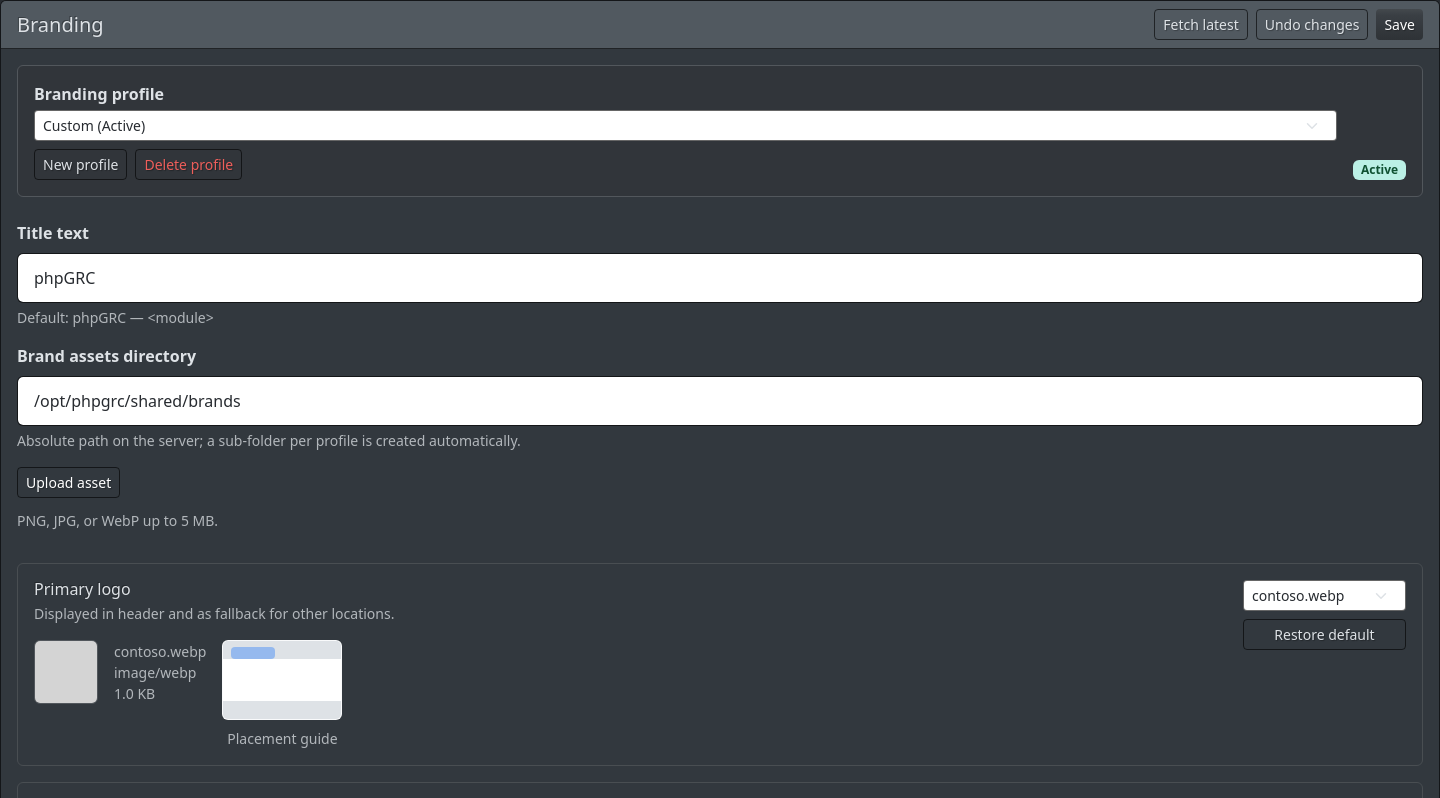
Test: BrandingCard › includes updated asset path when saved
The image size is (1440, 798).
Type "/srv/custom-brands" into the field labelled "Brand assets directory" at (720, 401), box x1=17 y1=376 x2=1423 y2=426
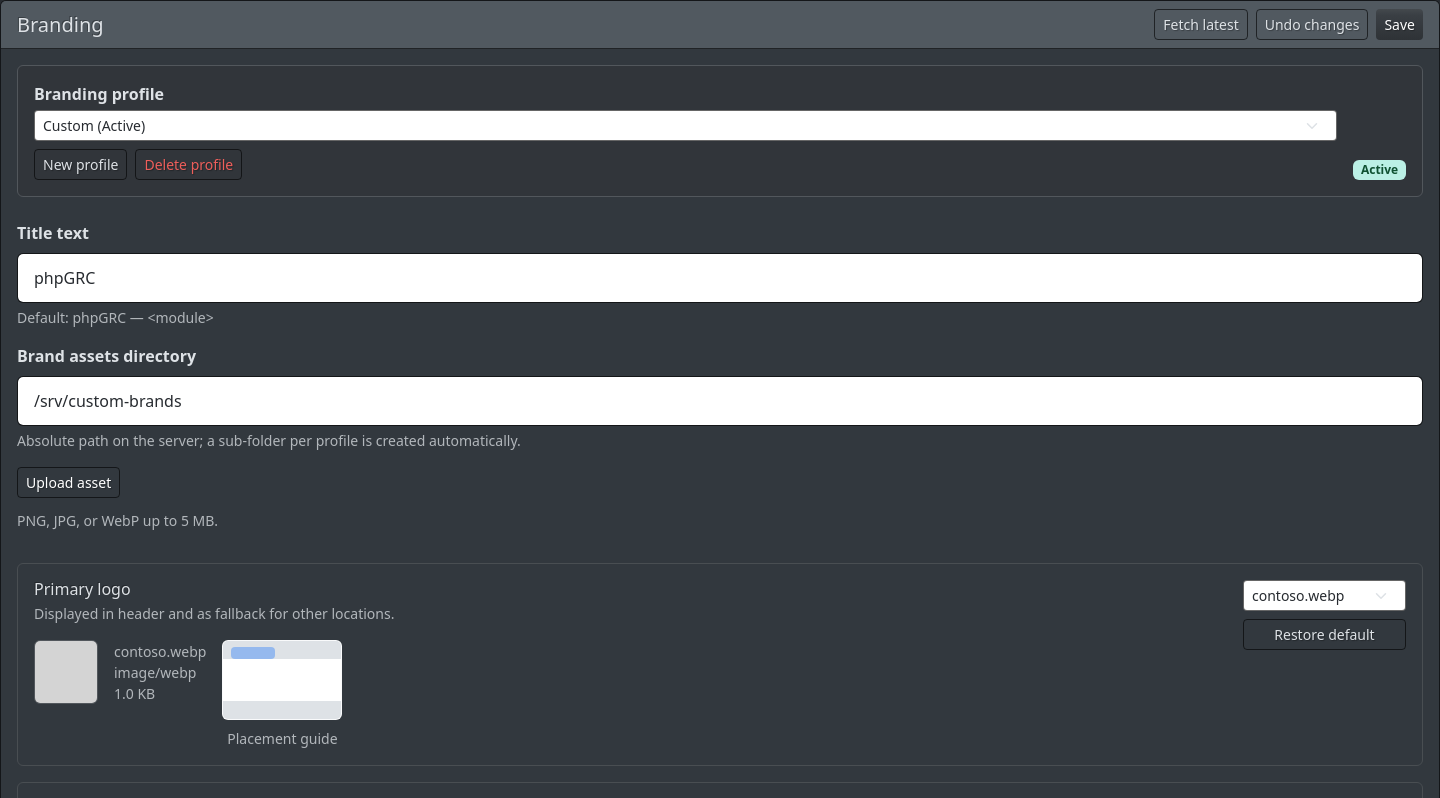
Click the button "Save" at (1400, 24), box x1=1376 y1=9 x2=1423 y2=40
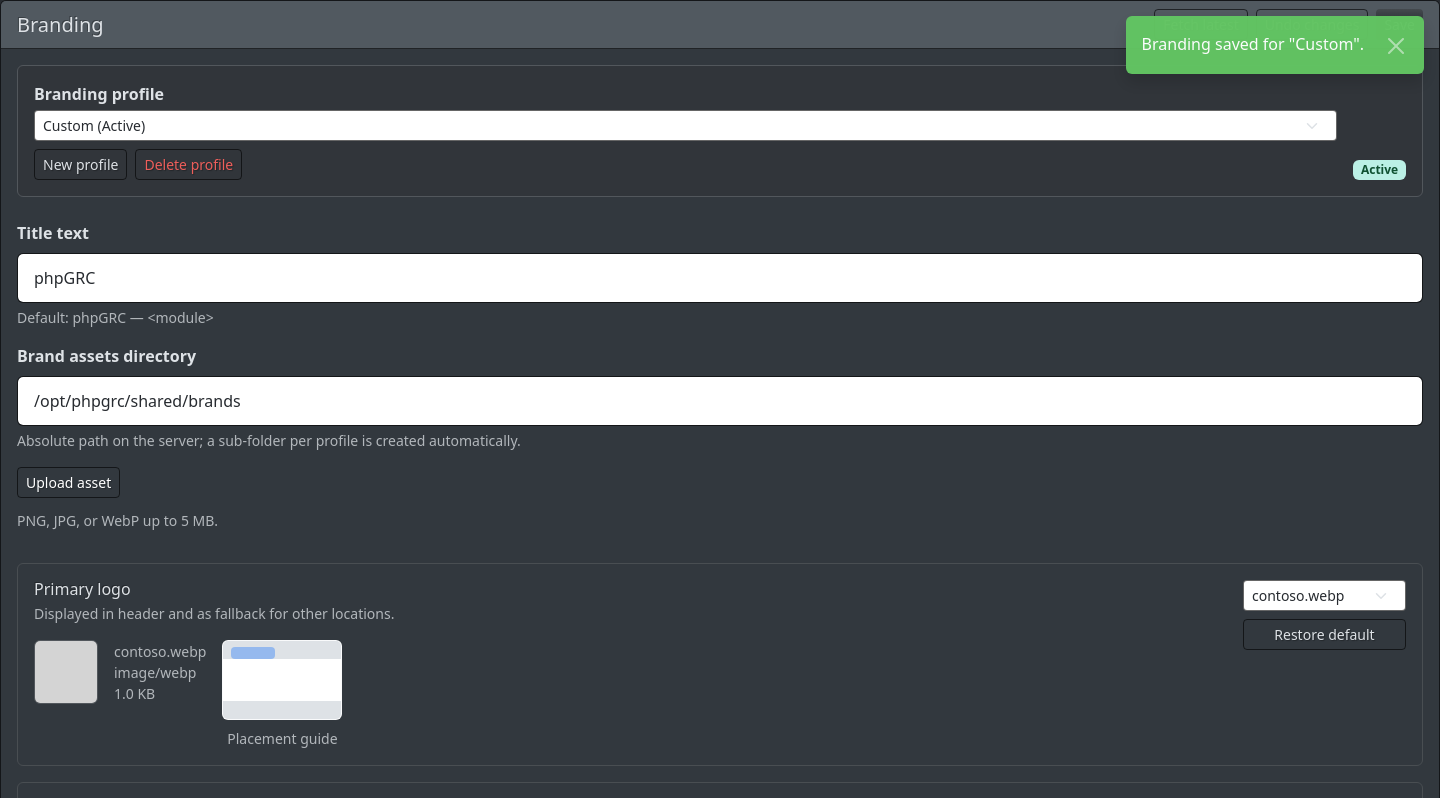
Result: the text "Branding saved for \"Custom\"." is shown at x1=1142 y1=32 x2=1364 y2=56
